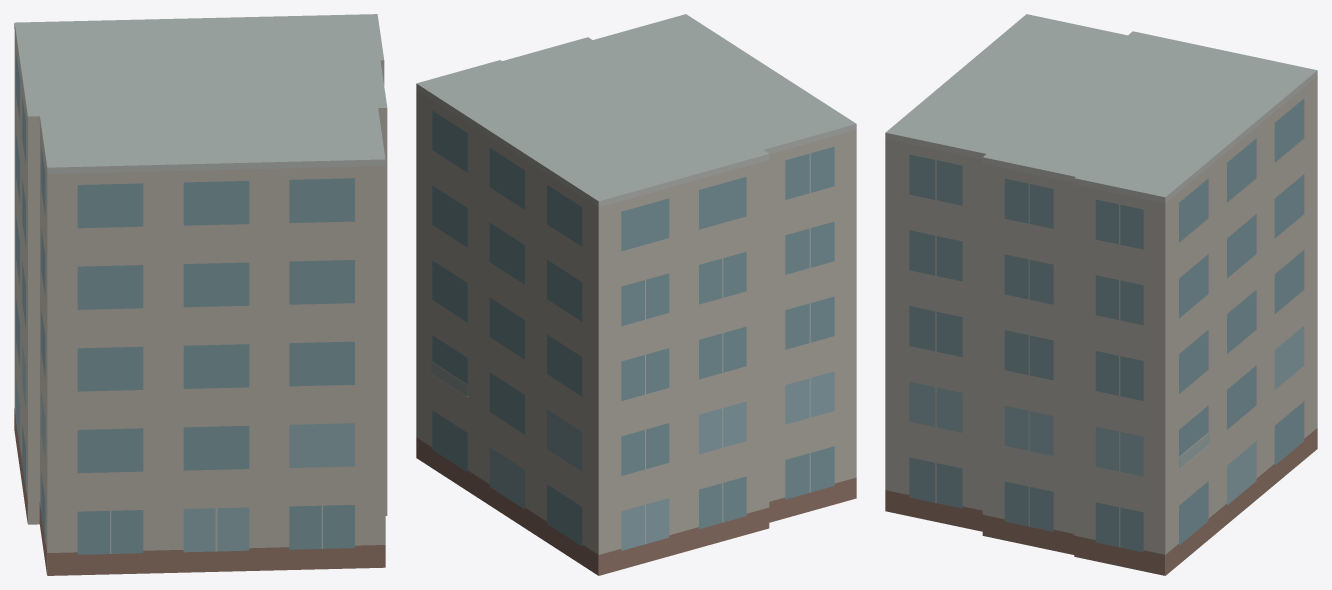
The model's file is survey-upis-33000140.glb.
3 renders of one model, left to right at view 1: azimuth 30°, elevation 25°; view 2: azimuth 150°, elevation 25°; view 3: azimuth 270°, elevation 25°, orthographic. The views are drawn at different scales.
Visible parts, largest first — view 1: survey-upis-33000140.tmp; view 2: survey-upis-33000140.tmp; view 3: survey-upis-33000140.tmp.
Part boxes in pixels (x1,y1,x2,y2): survey-upis-33000140.tmp: (14, 14, 387, 575); survey-upis-33000140.tmp: (416, 14, 856, 575); survey-upis-33000140.tmp: (885, 14, 1317, 575).
Bounding box in the file's own units: 15.85 × 15.25 × 15.79.
